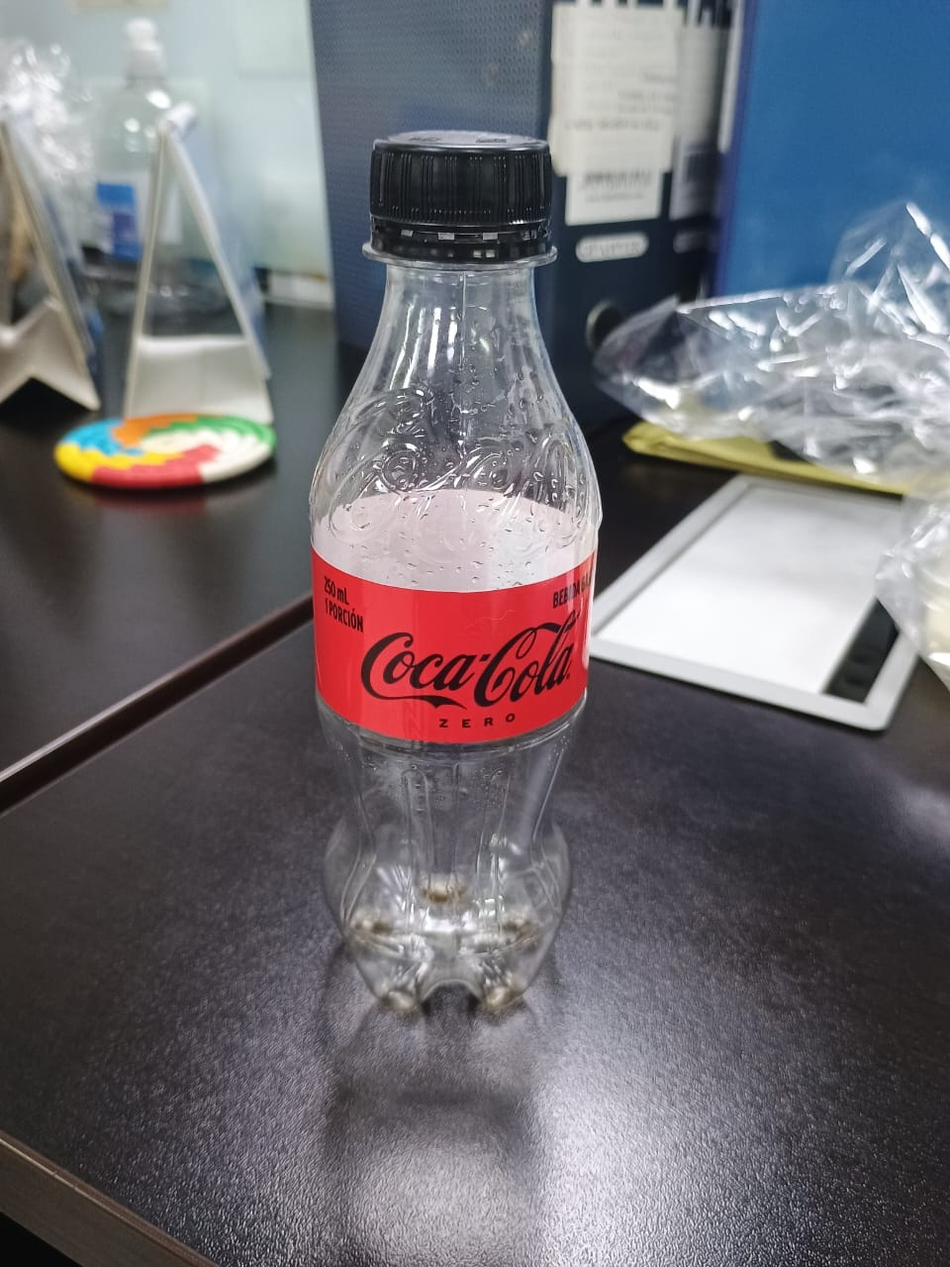Plastico: (307, 129, 602, 1023)
